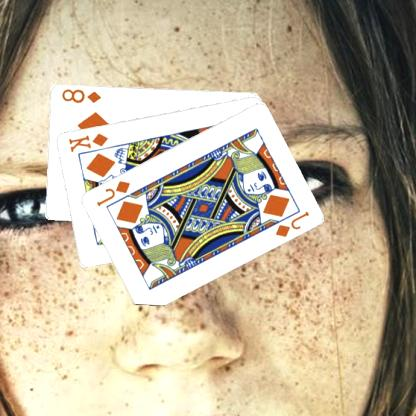8D: (61, 86, 104, 104)
JD: (95, 177, 133, 208), (274, 208, 312, 239)
KD: (67, 130, 111, 153)
